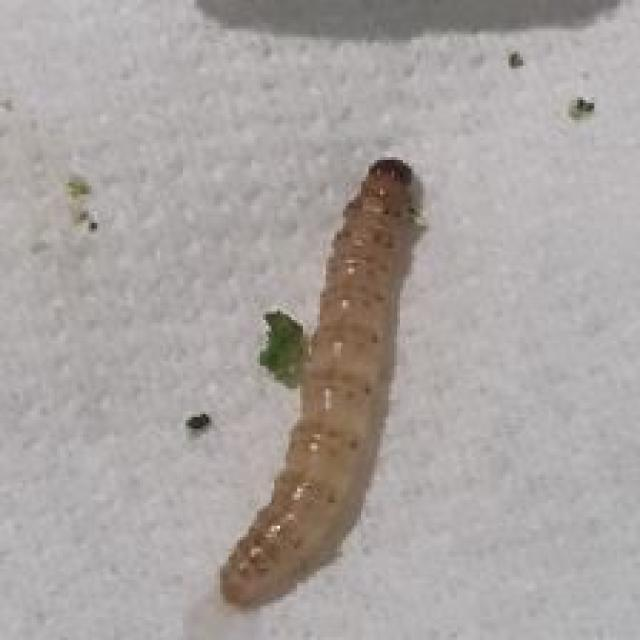white mucus: (214, 139, 464, 601)
